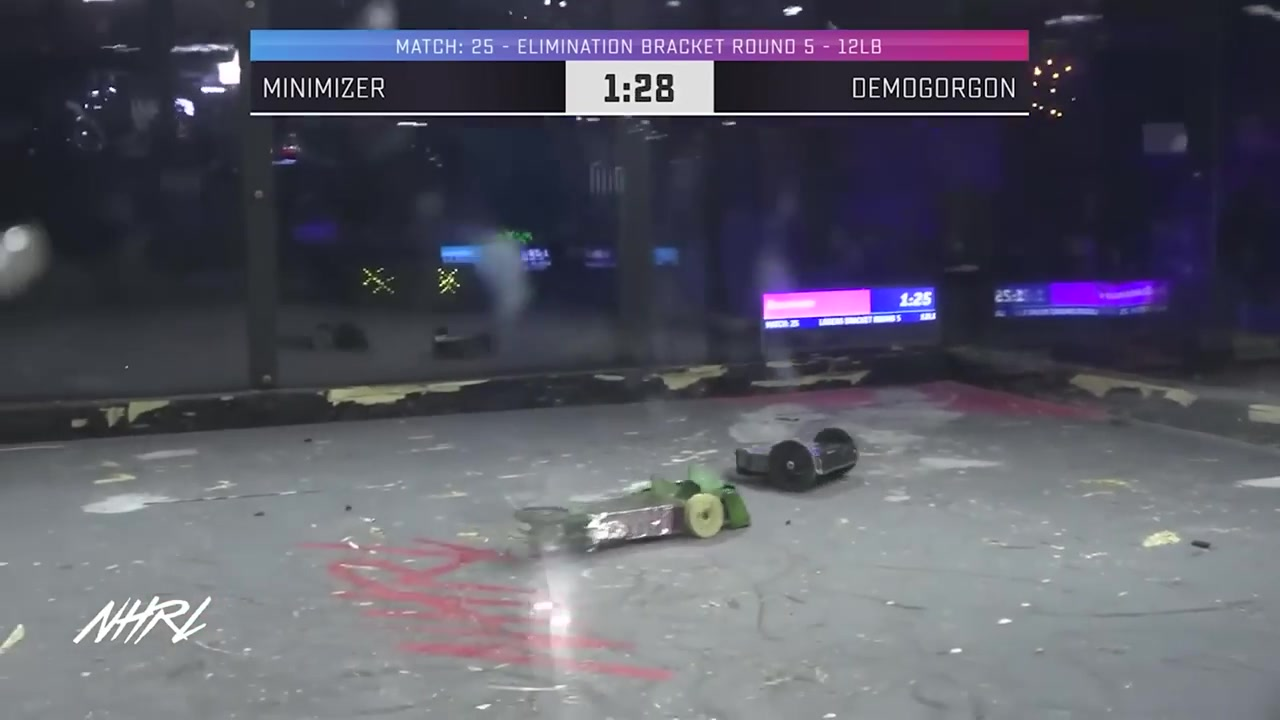combatbot: (516, 473, 750, 559), (733, 418, 859, 492)
